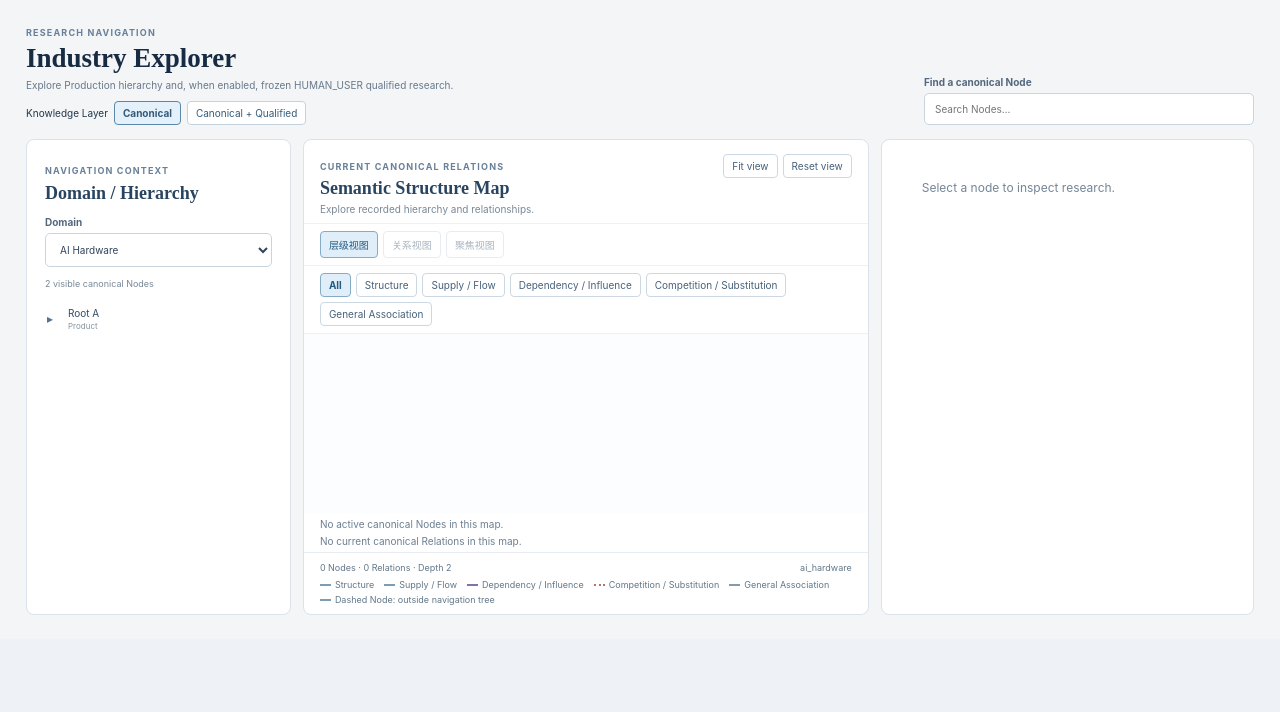
Test: Industry Explorer › opens searched nodes outside the tree without inventing a location
Expected: the list item "Root A Product" is shown, [61, 299, 278, 339]
Type "Outside" into the field labelled "Find a canonical Node" at (1089, 109), box [924, 93, 1254, 125]
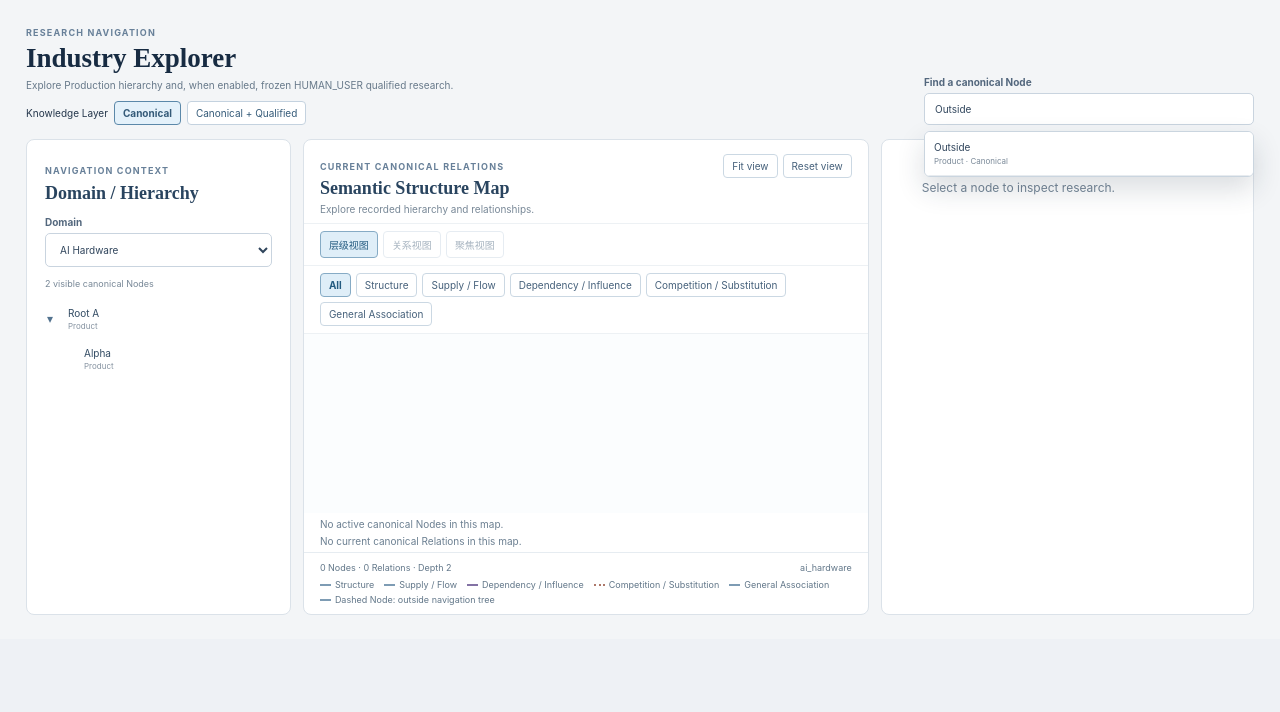
Click the button "Outside Product · Canonical" at (952, 147), box [925, 132, 1253, 176]
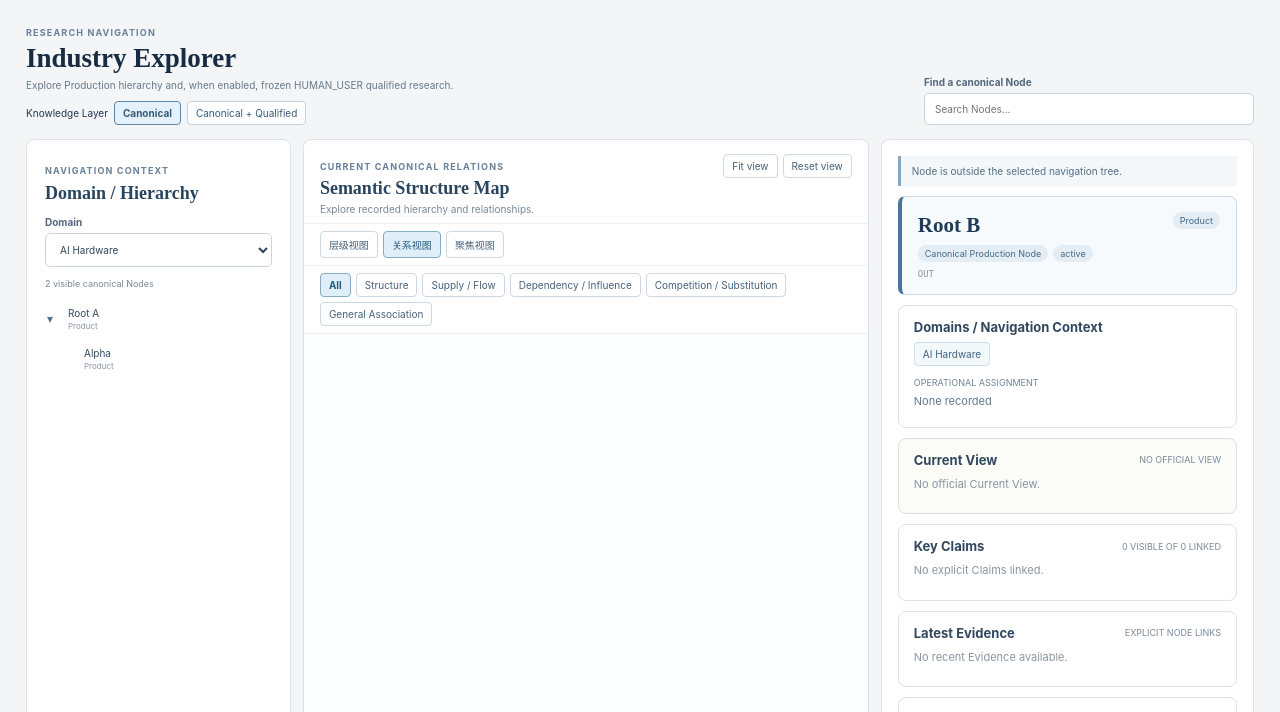
Now the text "Node is outside the selected navigation tree." is shown, box [898, 156, 1237, 186]
